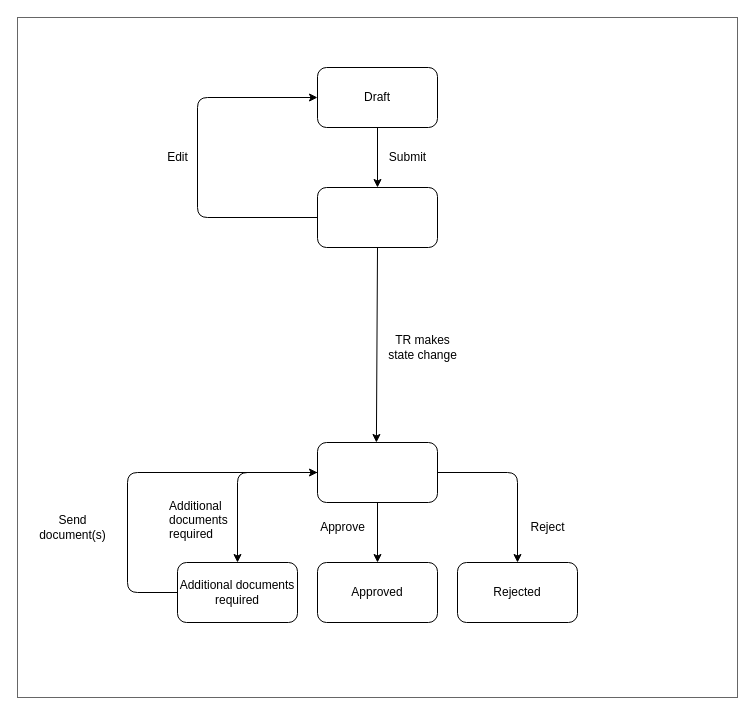
The diagram is 755 pixels wide and 715 high, and some of its shapes have lost their labels. The shapes that lost their labels are listed below. From the top down, each one's box as (x1, y1, x2, y2) in pixels, then its label:
(316, 186, 438, 248): Tryggingastofnun submitted
(316, 442, 438, 502): Tryggingastofnun in review
